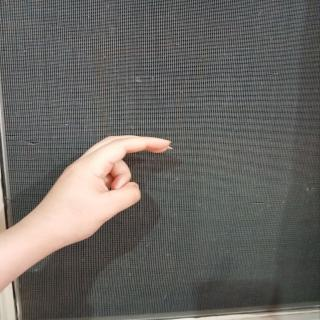ZAY: (26, 125, 185, 255)
